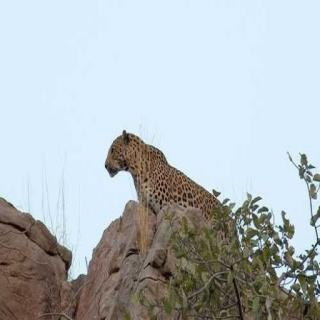Leopard: (103, 103, 251, 280)
